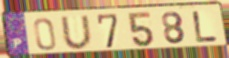0: (32, 17, 58, 52)
5: (126, 10, 156, 48)
7: (96, 13, 119, 49)
8: (161, 11, 186, 45)
L: (191, 10, 220, 44)
U: (59, 14, 95, 51)
